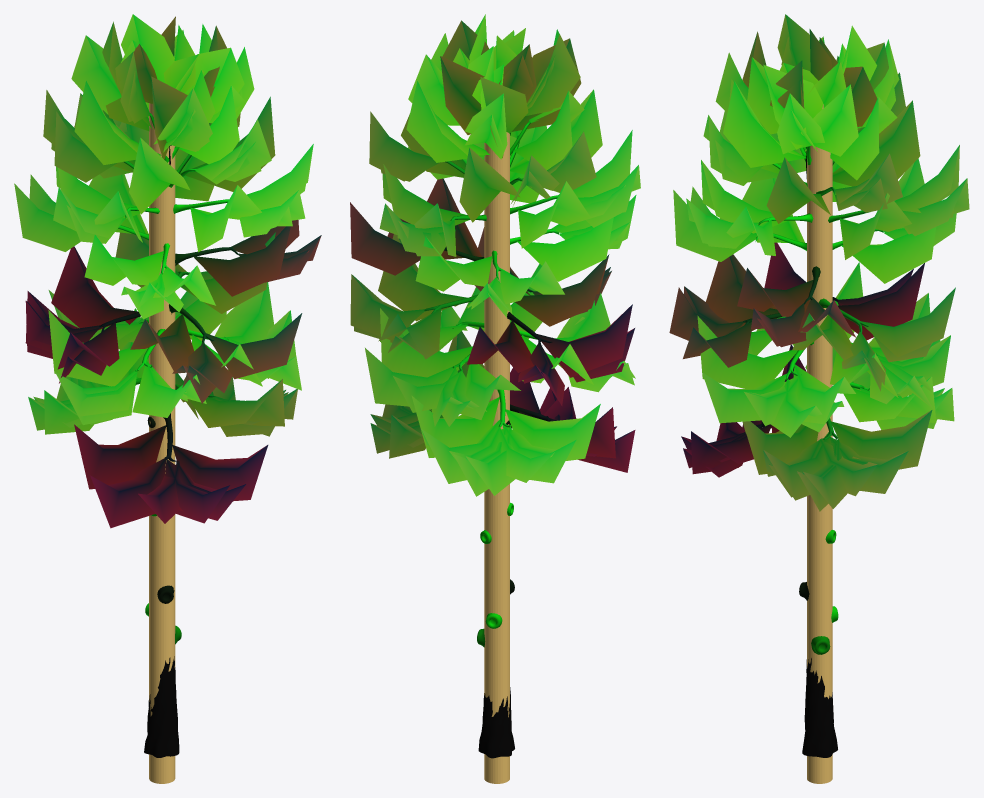
File: PF_Tree_Pine_old2.glb
3 views of the same model, side by side, from view 1: azimuth 30°, elevation 25°; view 2: azimuth 150°, elevation 25°; view 3: azimuth 270°, elevation 25° (orthographic).
Parts seen in each view (by area): view 1: SM_Branch, SM_Tree_Pine-gcp-wood, SM_Tree_Pine; view 2: SM_Branch, SM_Tree_Pine-gcp-wood, SM_Tree_Pine; view 3: SM_Branch, SM_Tree_Pine-gcp-wood, SM_Tree_Pine.
Boxes of the visible parts, x1=… form: SM_Branch: x1=14, y1=14, x2=321, y2=528; SM_Tree_Pine-gcp-wood: x1=149, y1=103, x2=175, y2=783; SM_Tree_Pine: x1=98, y1=113, x2=237, y2=757; SM_Branch: x1=350, y1=14, x2=640, y2=496; SM_Tree_Pine-gcp-wood: x1=484, y1=132, x2=509, y2=783; SM_Tree_Pine: x1=424, y1=121, x2=558, y2=758; SM_Branch: x1=669, y1=14, x2=969, y2=511; SM_Tree_Pine-gcp-wood: x1=807, y1=104, x2=832, y2=783; SM_Tree_Pine: x1=742, y1=146, x2=883, y2=757.
Size of the model in its own units: 4.69 by 12.79 by 4.66.
